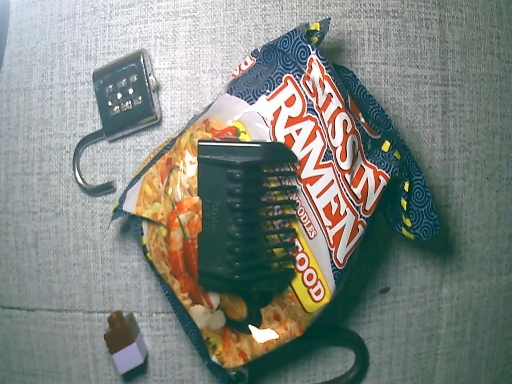metal: (68, 48, 164, 193), (277, 325, 370, 384)
plastic: (144, 18, 410, 384)
trash: (197, 138, 298, 296), (103, 304, 146, 381)
